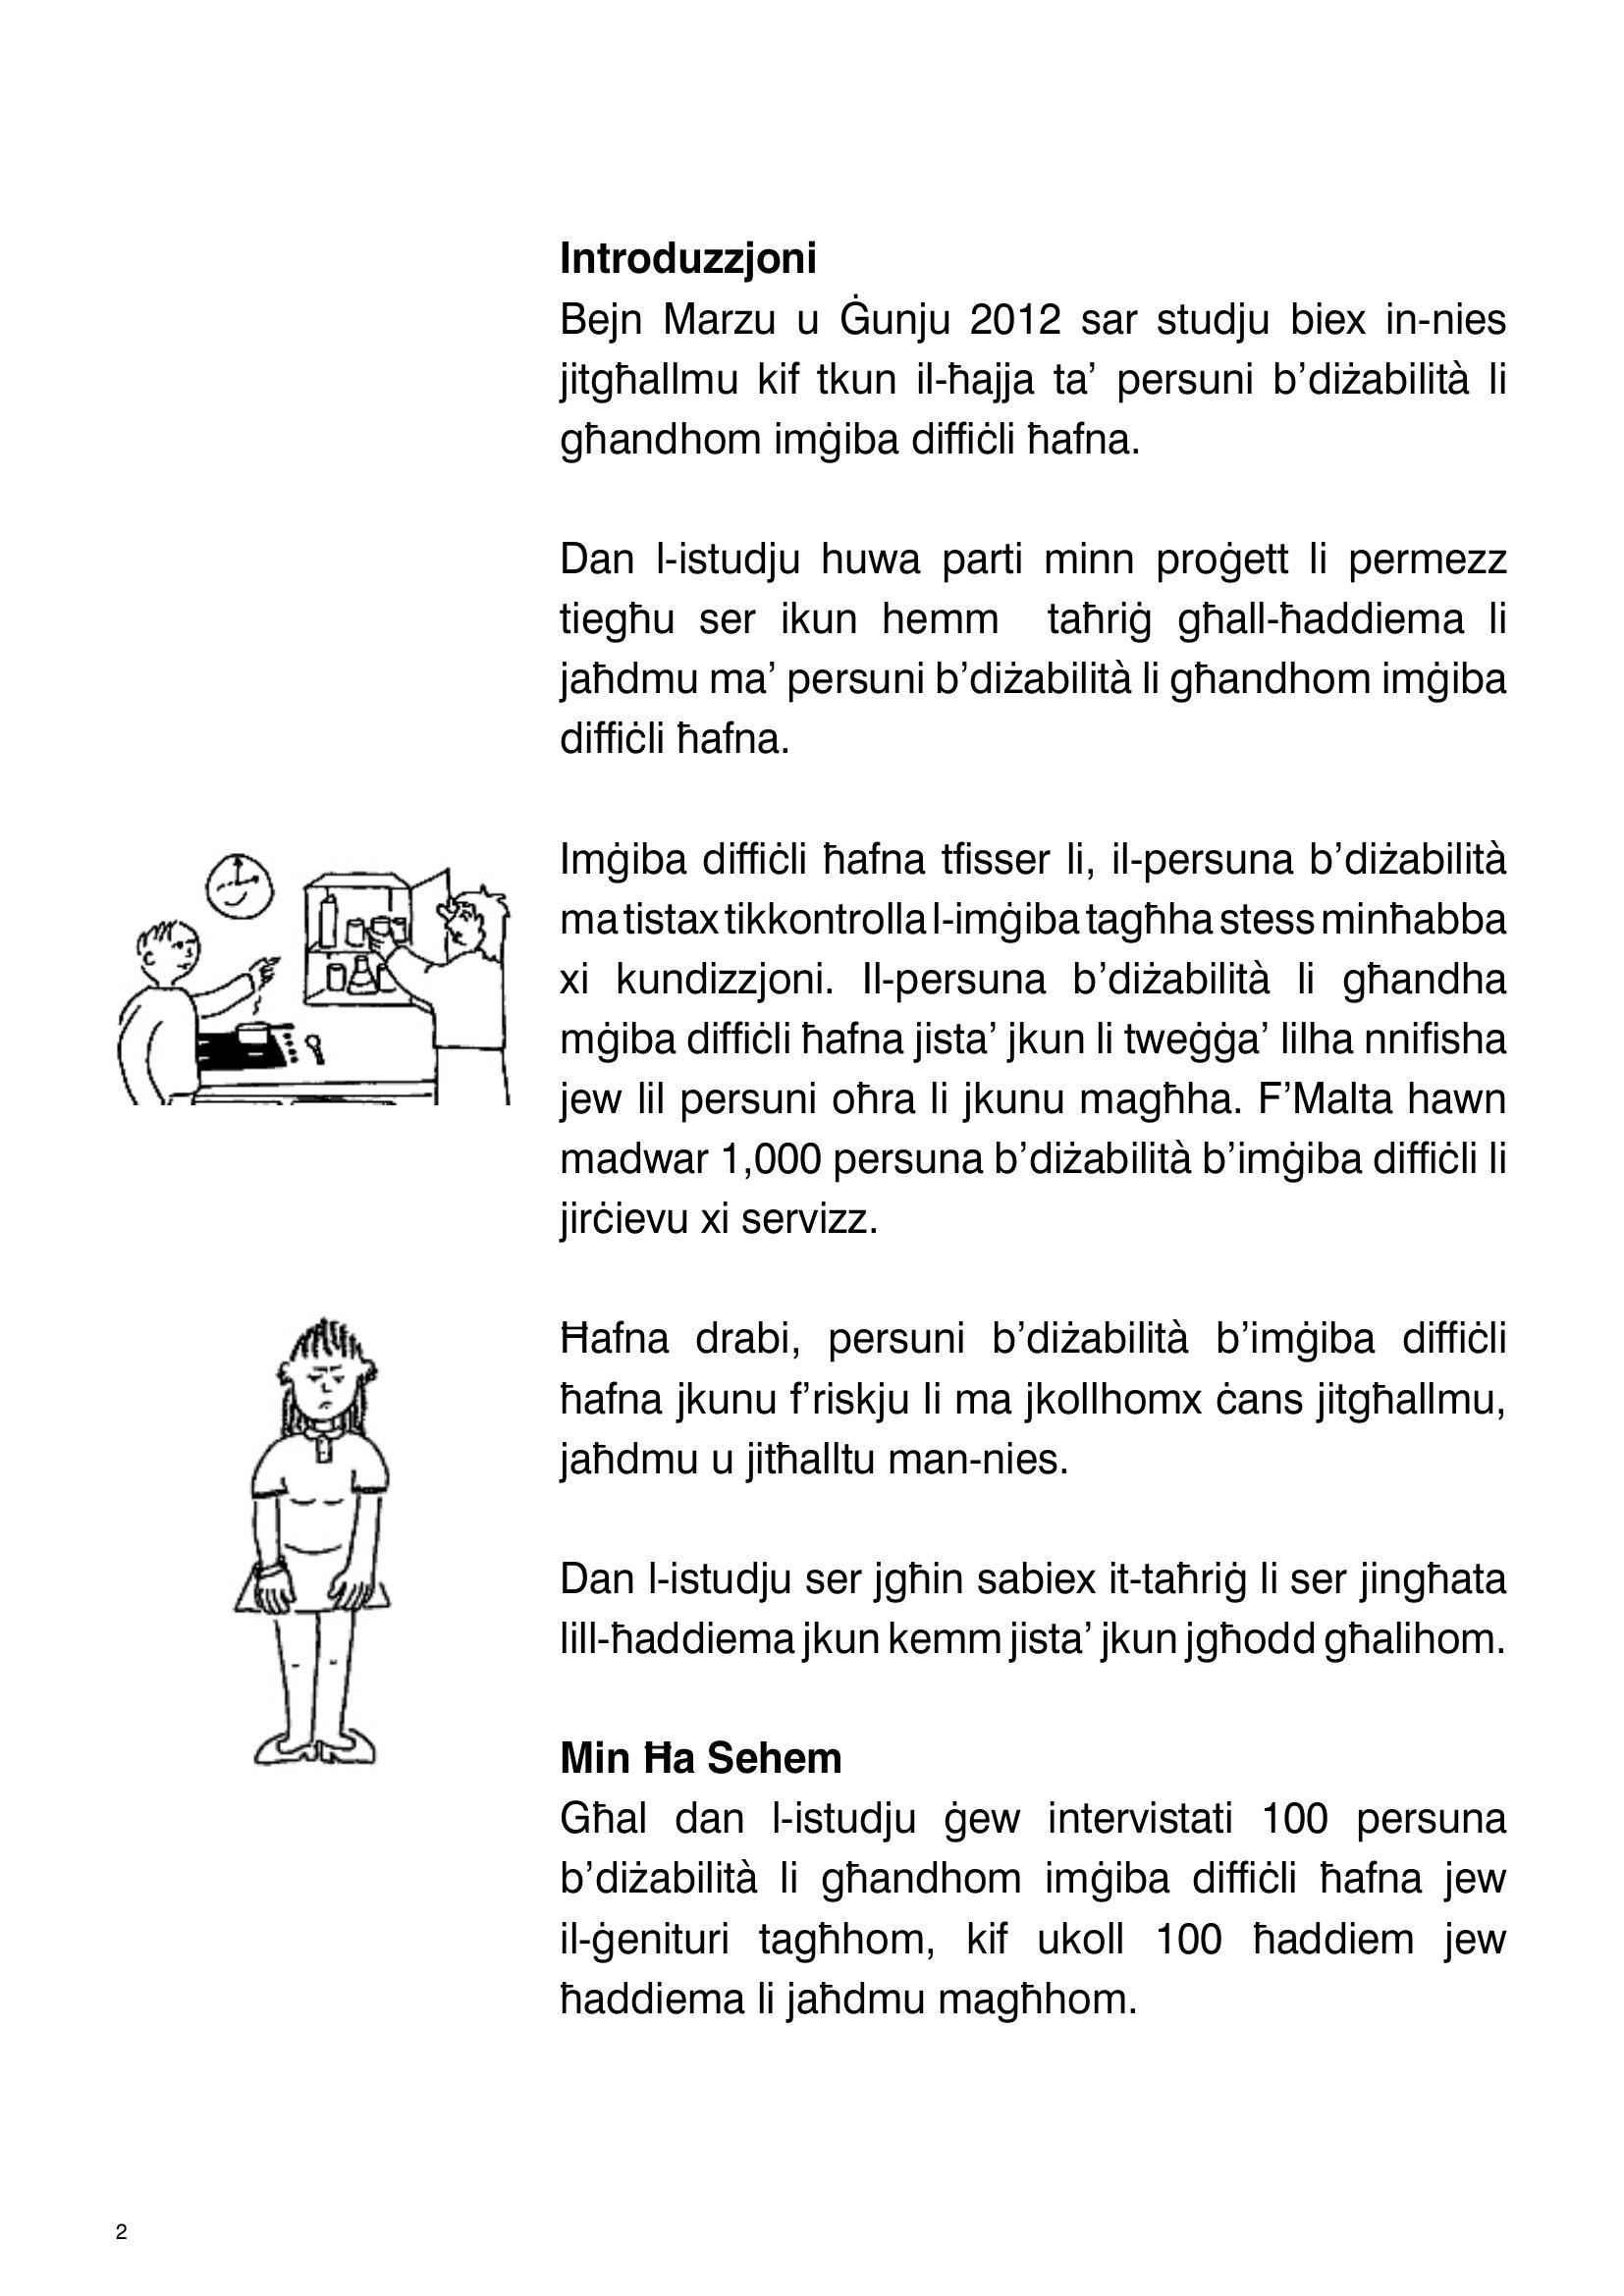text: (538, 221, 1540, 2043)
